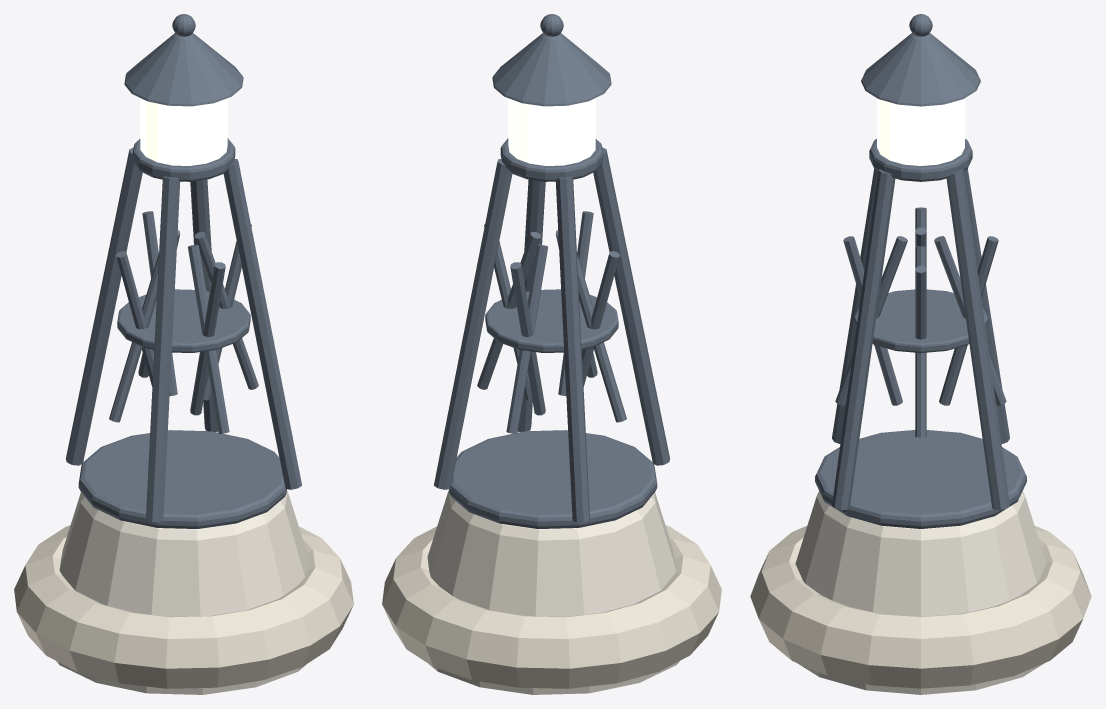
File: lamp-buoy.glb
3 renders of one model, left to right at view 1: azimuth 30°, elevation 25°; view 2: azimuth 150°, elevation 25°; view 3: azimuth 270°, elevation 25°, orthographic.
Visible parts, largest first — view 1: FloatCollar, BuoyBody, TopDeck, Post2, LampCap, Post3, Post1, LampGlass, MidRing, BraceA2, LampBase, Post0 (+6 smaller); view 2: FloatCollar, BuoyBody, TopDeck, Post1, LampCap, Post0, Post2, LampGlass, MidRing, BraceA0, LampBase, Post3 (+6 smaller); view 3: FloatCollar, BuoyBody, TopDeck, Post0, Post3, LampCap, LampGlass, MidRing, LampBase, Post1, Post2, BraceB0 (+5 smaller).
Boxes of the visible parts, x1,y1,x2,y2 form: FloatCollar: (14,525,353,688); BuoyBody: (56,490,308,694); TopDeck: (78,430,286,528); Post2: (146,176,180,522); LampCap: (124,33,243,106); Post3: (223,159,301,489); Post1: (66,147,142,465); LampGlass: (140,98,227,165); MidRing: (117,289,250,352); BraceA2: (188,244,229,433); LampBase: (132,138,235,181); Post0: (190,179,218,431); FloatCollar: (382,525,721,688); BuoyBody: (427,490,679,694); TopDeck: (449,430,657,528); Post1: (555,176,589,522); LampCap: (492,33,611,106); Post0: (434,159,512,489); Post2: (593,147,669,465); LampGlass: (508,98,595,165); MidRing: (485,289,618,352); BraceA0: (506,244,547,433); LampBase: (500,138,603,181); Post3: (517,179,545,431); FloatCollar: (750,526,1091,688); BuoyBody: (795,491,1046,694); TopDeck: (815,430,1026,528); Post0: (946,169,1009,509); Post3: (832,169,895,509); LampCap: (861,33,980,106); LampGlass: (877,98,964,165); MidRing: (853,289,988,352); LampBase: (869,139,972,181); Post1: (964,169,1009,443); Post2: (832,169,877,443); BraceB0: (939,236,998,405).
Size of the model in its own units: 2.64 by 5.31 by 2.64.
